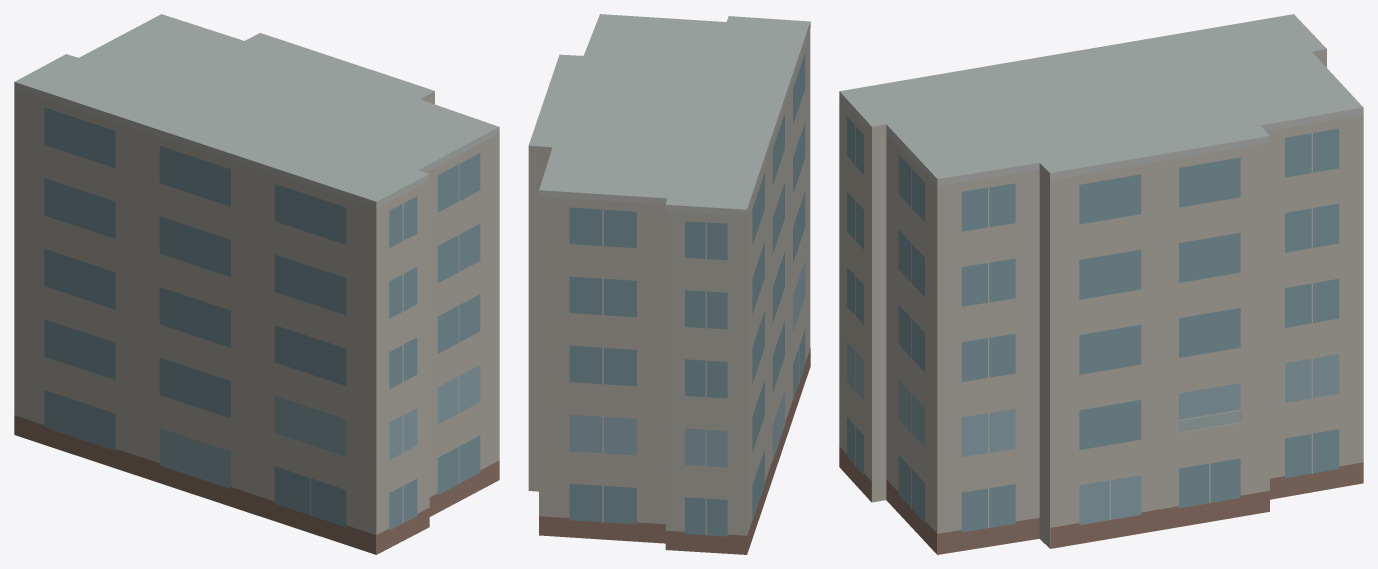
File: survey-upis-32894166.glb
3 views of the same model, side by side, from view 1: azimuth 30°, elevation 25°; view 2: azimuth 150°, elevation 25°; view 3: azimuth 270°, elevation 25° (orthographic). The views are drawn at different scales.
Parts seen in each view (by area): view 1: survey-upis-32894166.tmp; view 2: survey-upis-32894166.tmp; view 3: survey-upis-32894166.tmp.
Part boxes in pixels (box(x1,y1,x2,y2)): survey-upis-32894166.tmp: box(14, 14, 499, 554); survey-upis-32894166.tmp: box(528, 14, 810, 554); survey-upis-32894166.tmp: box(839, 14, 1363, 554).
Size of the model in its own units: 12.35 by 13.1 by 16.57.
